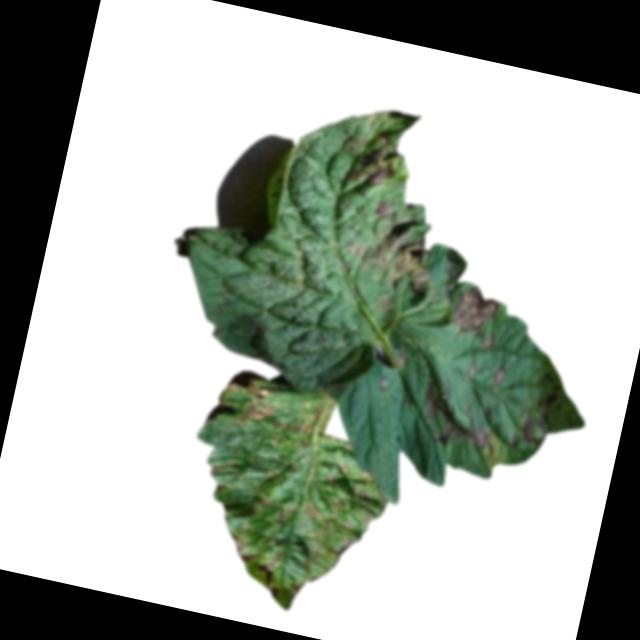Early_blight: (347, 193, 446, 293), (413, 368, 506, 455), (336, 123, 403, 190), (449, 281, 499, 340), (238, 379, 277, 425), (256, 552, 289, 602), (225, 528, 264, 566), (510, 408, 540, 452), (271, 414, 316, 439)
